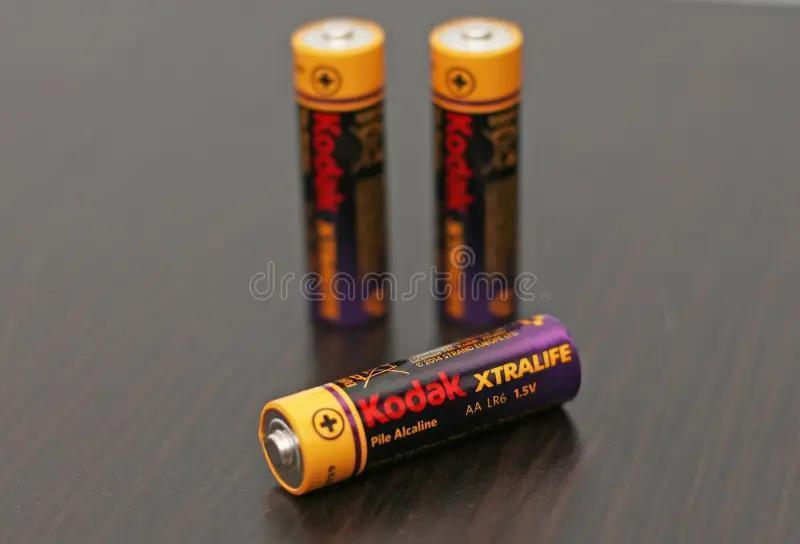AA: (254, 309, 586, 499), (288, 14, 396, 340), (426, 13, 527, 337)
